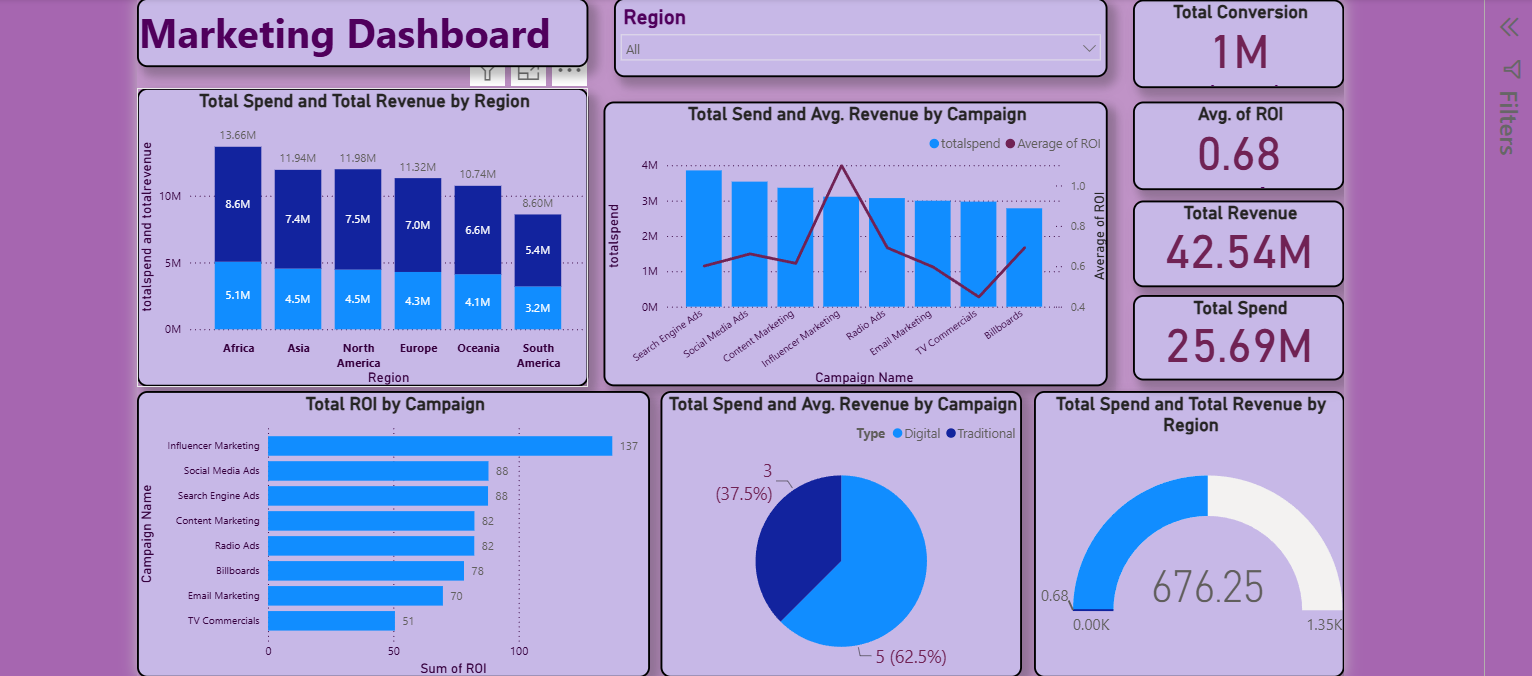

The page's visual inventory and layout, read from the dashboard file:
{"tool":"powerbi","page":{"name":"Page 1","canvas":[1280,720],"ordinal":0},"visuals":[{"type":"columnChart","title":"Total Spend and Total Revenue by Region","fields":{"Category":["marketing campaign performance.Region"],"Y":["marketing campaign performance.totalspend","marketing campaign performance.totalrevenue"]},"box":[0,95.4,478.8,316.5],"z":0},{"type":"lineClusteredColumnComboChart","title":"Total Send and Avg. Revenue by Campaign","fields":{"Category":["marketing campaign performance.Campaign Name"],"Y":["marketing campaign performance.totalspend"],"Y2":["Avg(marketing campaign performance.ROI)"]},"box":[494.7,109.8,534.4,302.2],"z":1000},{"type":"barChart","title":"Total ROI by Campaign","fields":{"Category":["marketing campaign performance.Campaign Name"],"Y":["Sum(marketing campaign performance.ROI)"]},"box":[0,416.7,544,303.8],"z":2000},{"type":"pieChart","title":"Total Spend and Avg. Revenue by Campaign","fields":{"Category":["marketing campaign details.Type"],"Y":["CountNonNull(marketing campaign details.CampaignName)"]},"box":[555.1,416.7,383.3,303.8],"z":3000},{"type":"gauge","title":"Total Spend and Total Revenue by Region","fields":{"Y":["marketing campaign performance.totalroi"],"TargetValue":["Avg(marketing campaign performance.ROI)"]},"box":[951.2,416.7,329.3,303.8],"z":4000},{"type":"card","title":"Avg. of ROI","fields":{"Values":["Avg(marketing campaign performance.ROI)"]},"box":[1056.2,109.8,224.3,93.8],"z":5000},{"type":"card","title":"Total Revenue","fields":{"Values":["marketing campaign performance.totalrevenue"]},"box":[1056.2,214.7,224.3,92.3],"z":6000},{"type":"card","title":"Total Spend ","fields":{"Values":["marketing campaign performance.totalspend"]},"box":[1056.2,314.9,224.3,90.7],"z":7000},{"type":"textbox","box":[0,0,478.8,73.2],"z":8000},{"type":"slicer","title":"Totalspend and Totalrevenue by Region","fields":{"Values":["marketing campaign performance.Region"]},"box":[505.8,0,523.3,84.3],"z":9000},{"type":"card","title":"Total Conversion","fields":{"Values":["marketing campaign performance.totalconversion"]},"box":[1056.2,1.6,224.3,93.8],"z":10000}]}

Visuals, with their boxes in screenshot pixels (x1, y1, x2, y2):
"Total Spend and Total Revenue by Region" columnChart: {"left": 156, "top": 96, "right": 598, "bottom": 388}
"Total Send and Avg. Revenue by Campaign" lineClusteredColumnComboChart: {"left": 612, "top": 109, "right": 1106, "bottom": 388}
"Total ROI by Campaign" barChart: {"left": 156, "top": 393, "right": 658, "bottom": 673}
"Total Spend and Avg. Revenue by Campaign" pieChart: {"left": 668, "top": 393, "right": 1022, "bottom": 673}
"Total Spend and Total Revenue by Region" gauge: {"left": 1034, "top": 393, "right": 1338, "bottom": 673}
"Avg. of ROI" card: {"left": 1131, "top": 109, "right": 1338, "bottom": 196}
"Total Revenue" card: {"left": 1131, "top": 206, "right": 1338, "bottom": 291}
"Total Spend " card: {"left": 1131, "top": 299, "right": 1338, "bottom": 383}
textbox: {"left": 156, "top": 8, "right": 598, "bottom": 76}
"Totalspend and Totalrevenue by Region" slicer: {"left": 623, "top": 8, "right": 1106, "bottom": 86}
"Total Conversion" card: {"left": 1131, "top": 9, "right": 1338, "bottom": 96}
